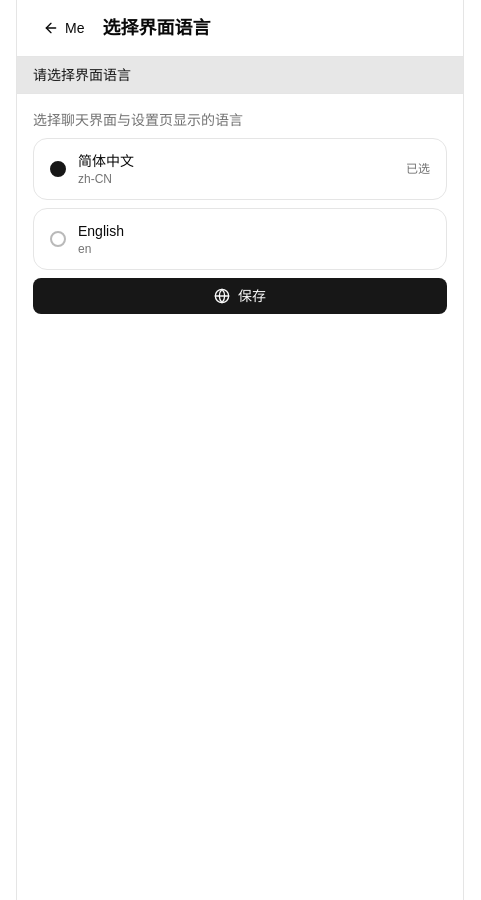
Test case: InterfaceLanguagePage › 保存失败显示错误文案
This screenshot has width=481, height=900.
Expected: the text "简体中文" is shown, x1=78 y1=151 x2=134 y2=171
Click the button "保存" at [240, 296], box x1=33 y1=278 x2=447 y2=314
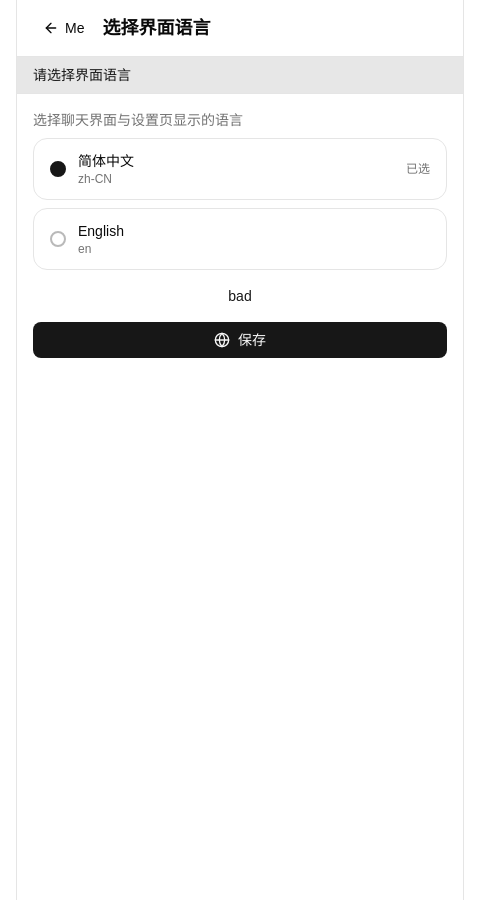
Expected: the text "bad" is shown, x1=228 y1=288 x2=252 y2=304
